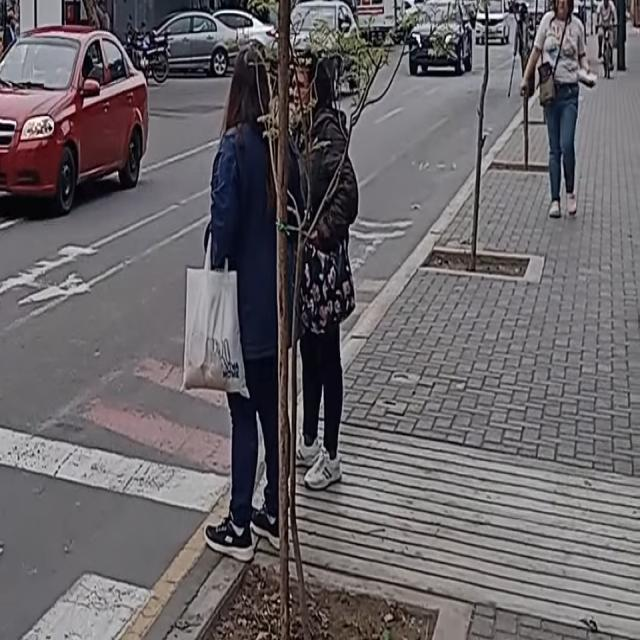car: (0, 25, 153, 210), (277, 3, 361, 97), (407, 0, 475, 76), (474, 0, 511, 43)
